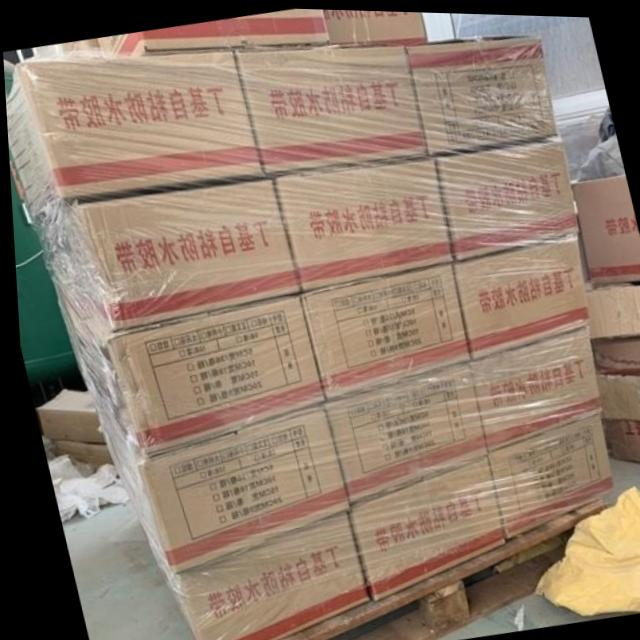box: (5, 48, 261, 219), (97, 293, 321, 456), (63, 176, 298, 331), (131, 402, 344, 573), (163, 508, 362, 640), (234, 41, 426, 174), (271, 154, 451, 289), (297, 261, 466, 401), (318, 359, 482, 503), (341, 451, 498, 599), (406, 32, 556, 152), (433, 135, 577, 258), (464, 320, 598, 449), (449, 232, 586, 358), (482, 409, 609, 535), (97, 7, 329, 57), (569, 170, 640, 281), (581, 279, 640, 371), (591, 370, 640, 459), (322, 7, 427, 45)
